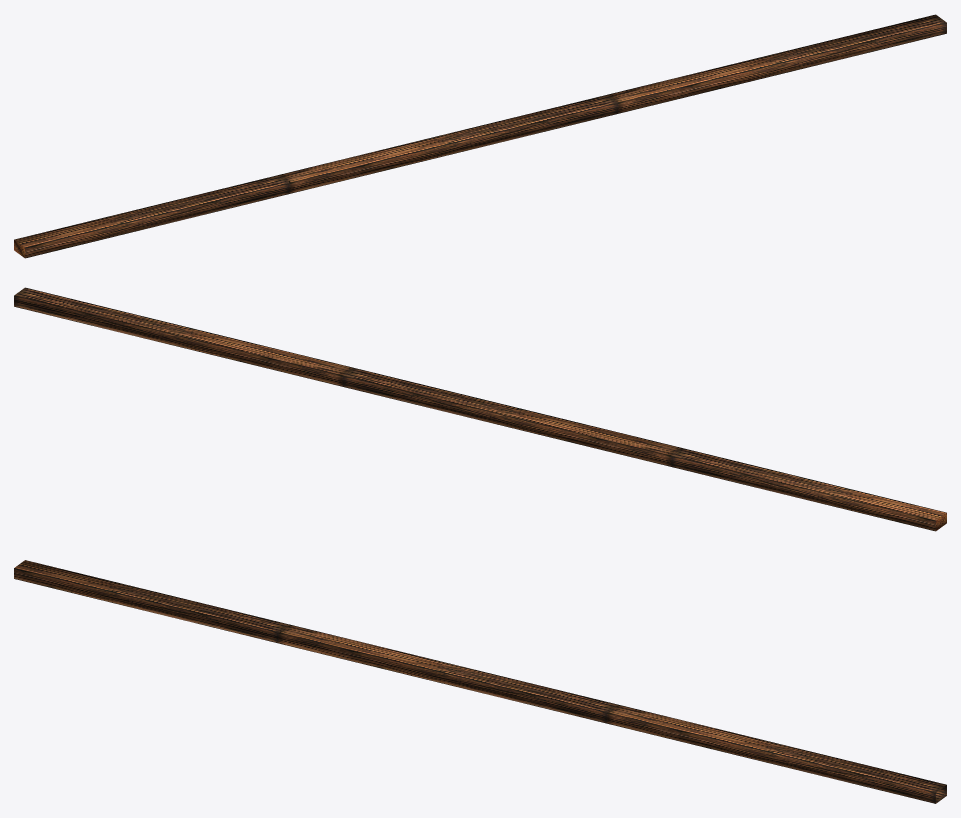
Rendered from LAKETOWN_WAREHOUSE1_PS_WH1_TOPBEAM3181.fbx.
The picture shows the model from 3 angles, top to bottom: view 1: azimuth 30°, elevation 25°; view 2: azimuth 150°, elevation 25°; view 3: azimuth 330°, elevation 25°; orthographic projection.
Parts seen in each view (by area): view 1: LAKETOWN_WAREHOUSE1_PS_WH1_TOPBEAM3181; view 2: LAKETOWN_WAREHOUSE1_PS_WH1_TOPBEAM3181; view 3: LAKETOWN_WAREHOUSE1_PS_WH1_TOPBEAM3181.
Part boxes in pixels (<box>): LAKETOWN_WAREHOUSE1_PS_WH1_TOPBEAM3181: <box>14,14,946,258</box>; LAKETOWN_WAREHOUSE1_PS_WH1_TOPBEAM3181: <box>14,287,946,531</box>; LAKETOWN_WAREHOUSE1_PS_WH1_TOPBEAM3181: <box>14,560,946,803</box>.
Size of the model in its own units: 139653 by 1600 by 2918.
2 materials, 2 textured.
